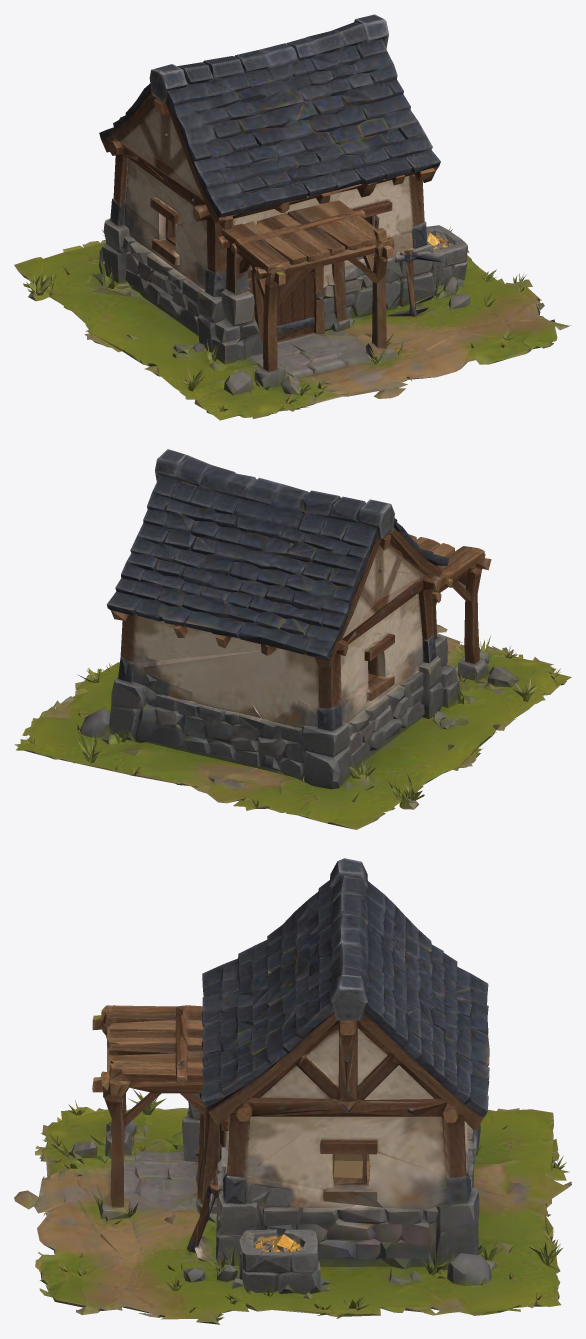
The model's file is minecamp.glb.
3 renders of one model, top to bottom at view 1: azimuth 30°, elevation 25°; view 2: azimuth 150°, elevation 25°; view 3: azimuth 270°, elevation 25°, orthographic. The views are drawn at different scales.
Size of the model in its own units: 1.82 by 1.08 by 1.89.
1 material, 1 textured.
